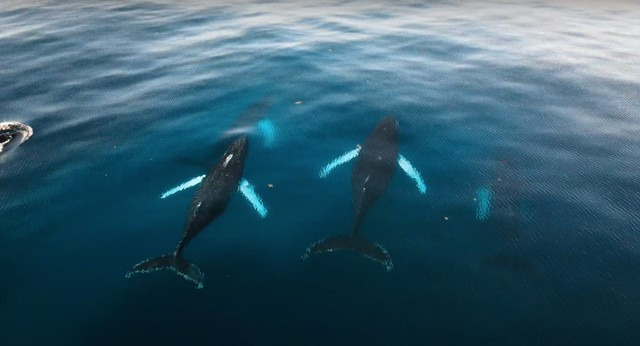whalew: (116, 118, 274, 300), (294, 103, 432, 278)
